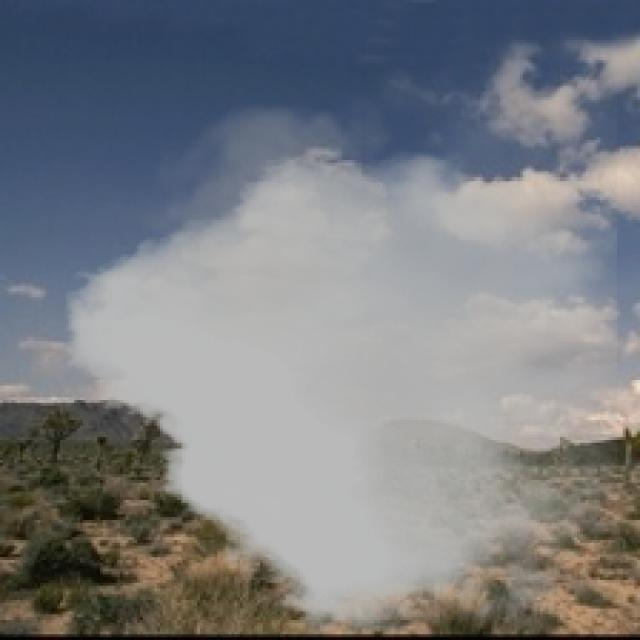smoke: (66, 92, 620, 637)
